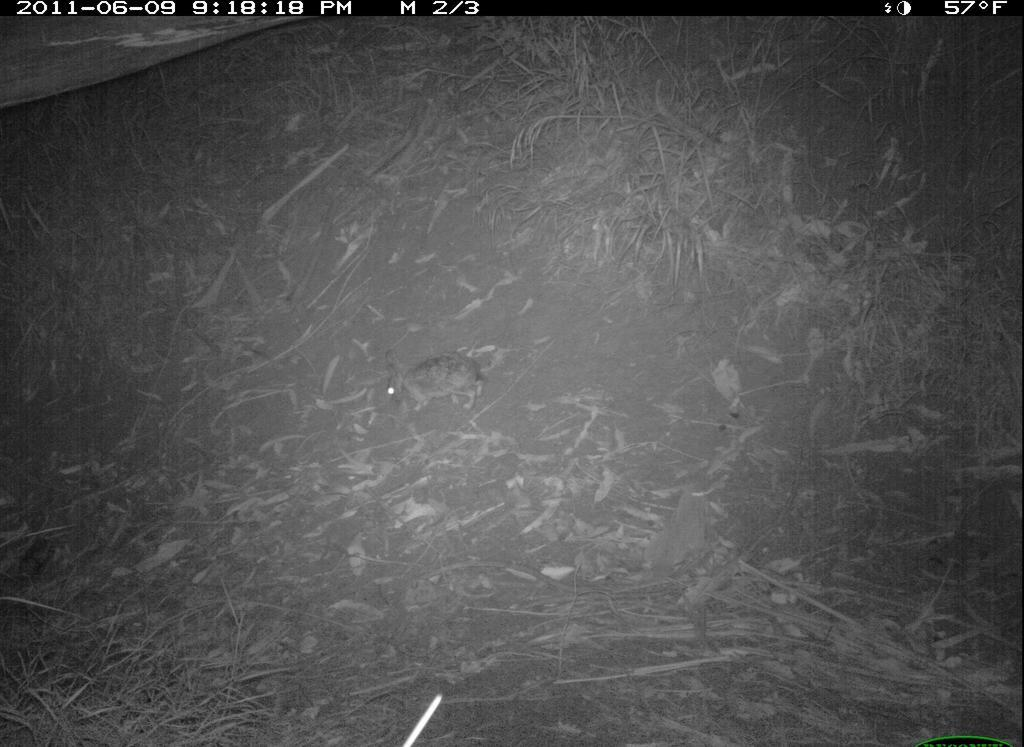rabbit: (378, 340, 497, 429)
